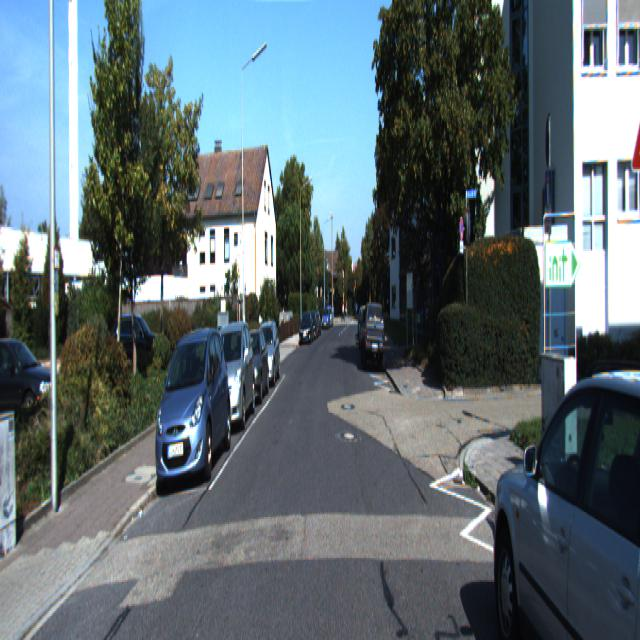Car: (489, 331, 640, 638), (150, 322, 233, 489), (0, 333, 70, 442), (204, 316, 256, 435), (233, 325, 270, 405), (250, 318, 280, 388), (361, 300, 386, 371)
